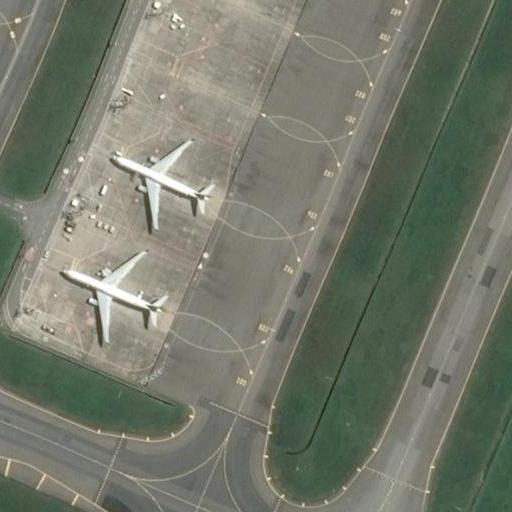Aircraft: (57, 250, 170, 342), (108, 137, 217, 228)
